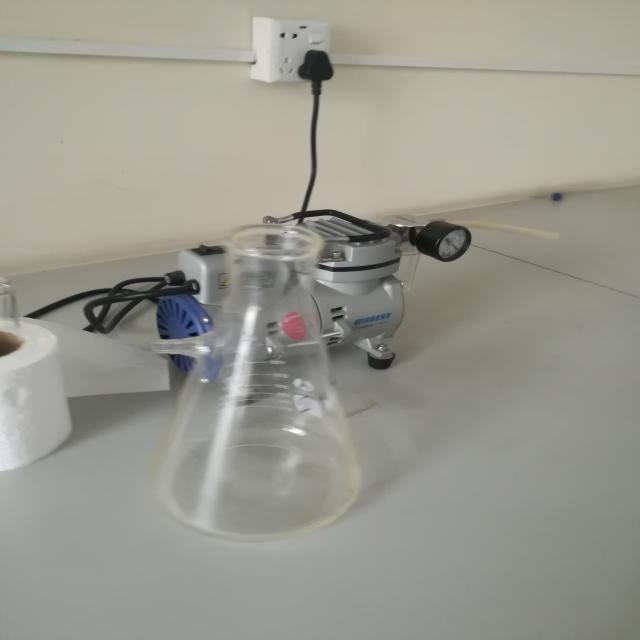Conical_Flask: (110, 179, 420, 573)
